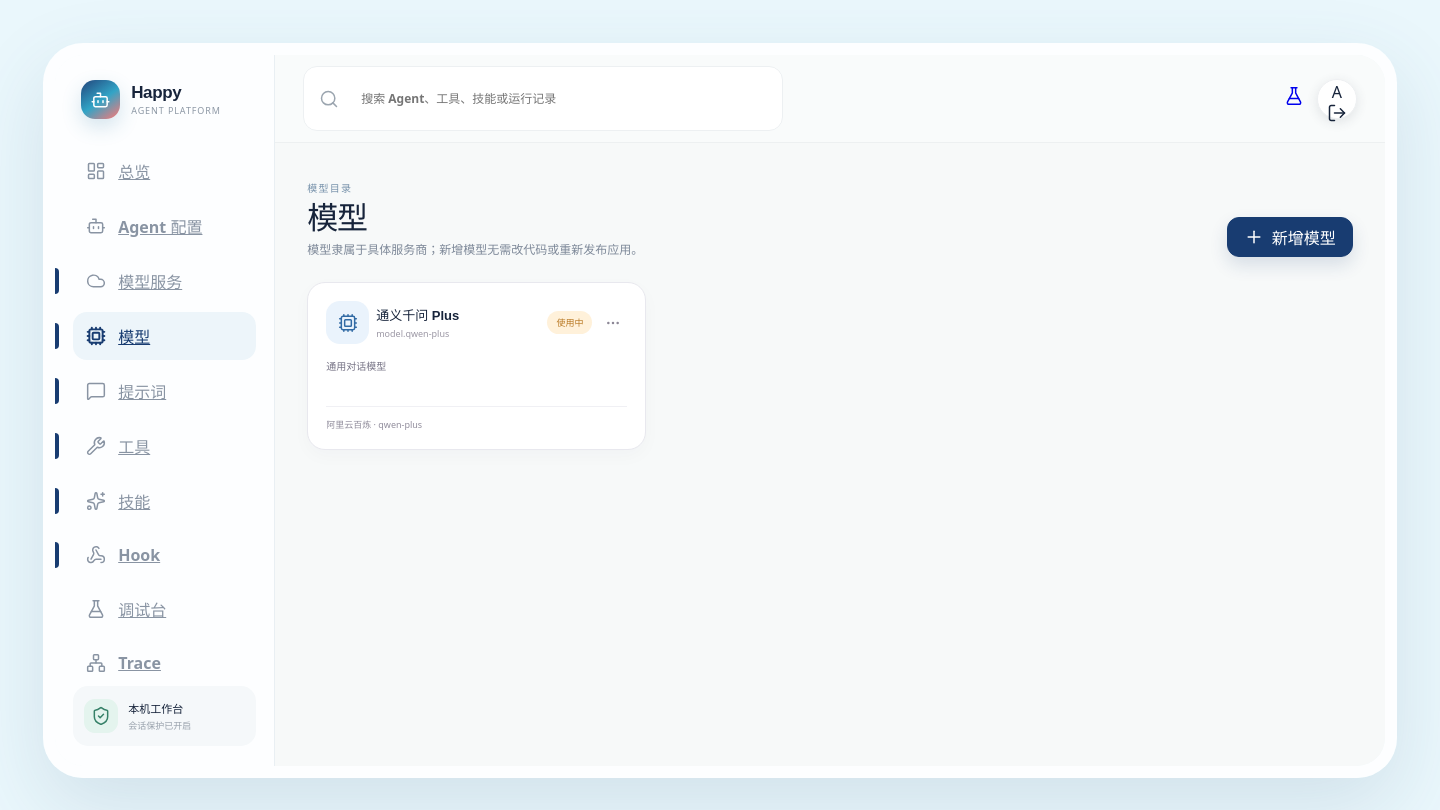
AdminWorkbench › opens model creation in a modal with compact capability declarations
This screenshot has width=1440, height=810.
Step 1. Click the button "新增模型" → (1290, 237), box [1227, 217, 1353, 257]
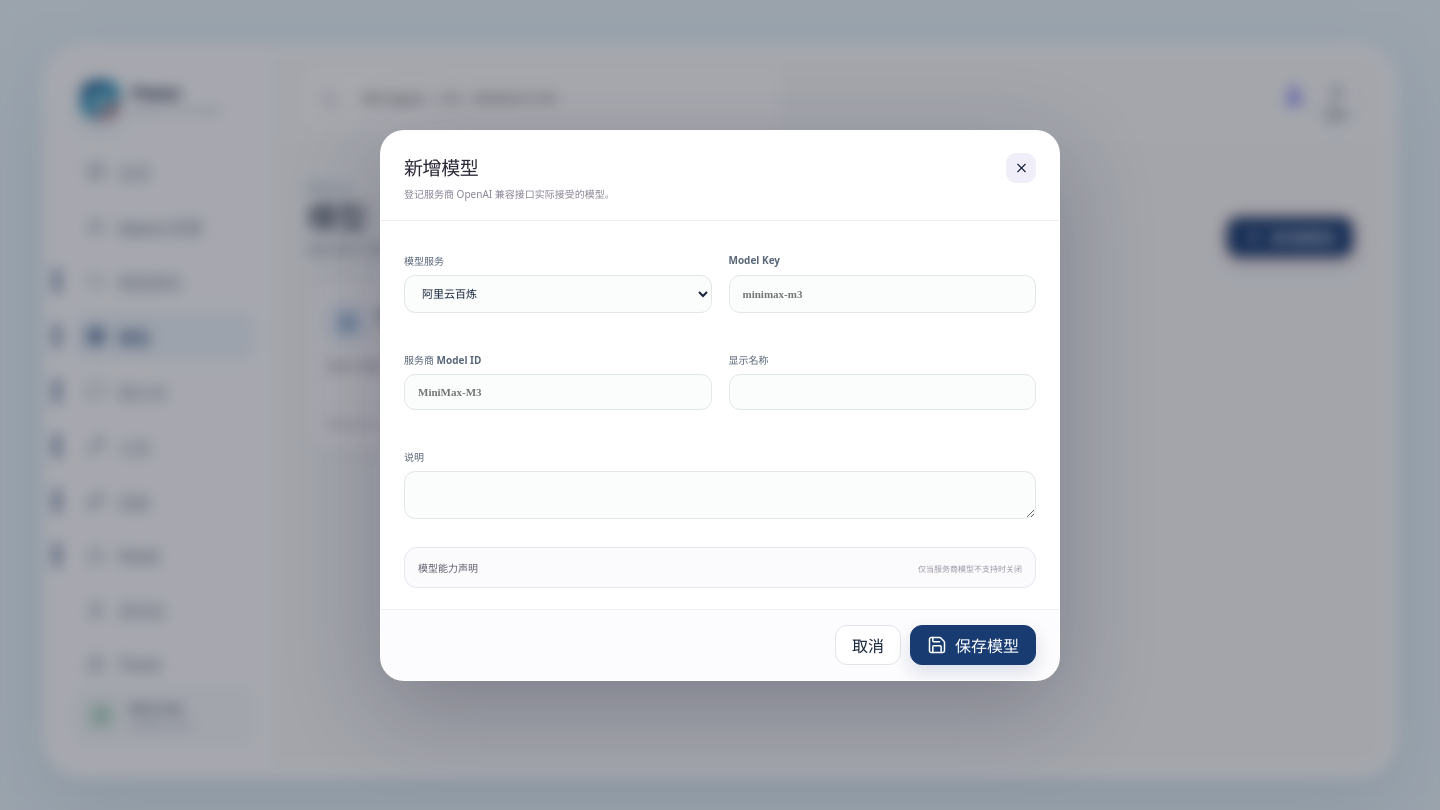
Expected: the dialog "新增模型" is shown, [380, 130, 1060, 680]
Expected: the heading "模型能力声明 仅当服务商模型不支持时关闭" is shown, [418, 560, 1022, 574]
